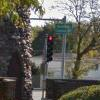Tree: (69, 4, 100, 76)
